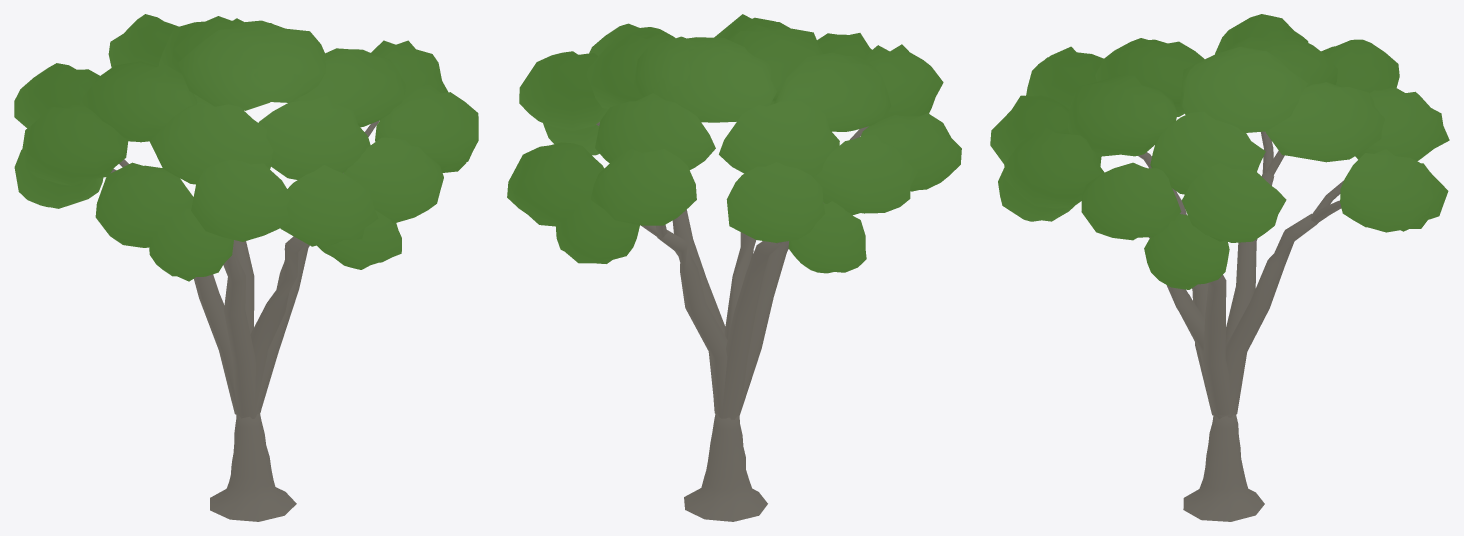
File: Blender_AmericanElm_2.glb
3 views of the same model, side by side, from view 1: azimuth 30°, elevation 25°; view 2: azimuth 150°, elevation 25°; view 3: azimuth 270°, elevation 25° (orthographic). The views are drawn at different scales.
Parts seen in each view (by area): view 1: Blender_AmericanElm_2; view 2: Blender_AmericanElm_2; view 3: Blender_AmericanElm_2.
Boxes of the visible parts, bbox=[...] form: Blender_AmericanElm_2: bbox=[14, 14, 478, 521]; Blender_AmericanElm_2: bbox=[507, 14, 961, 521]; Blender_AmericanElm_2: bbox=[990, 14, 1449, 521].
Size of the model in its own units: 20.53 by 22.44 by 20.85.
